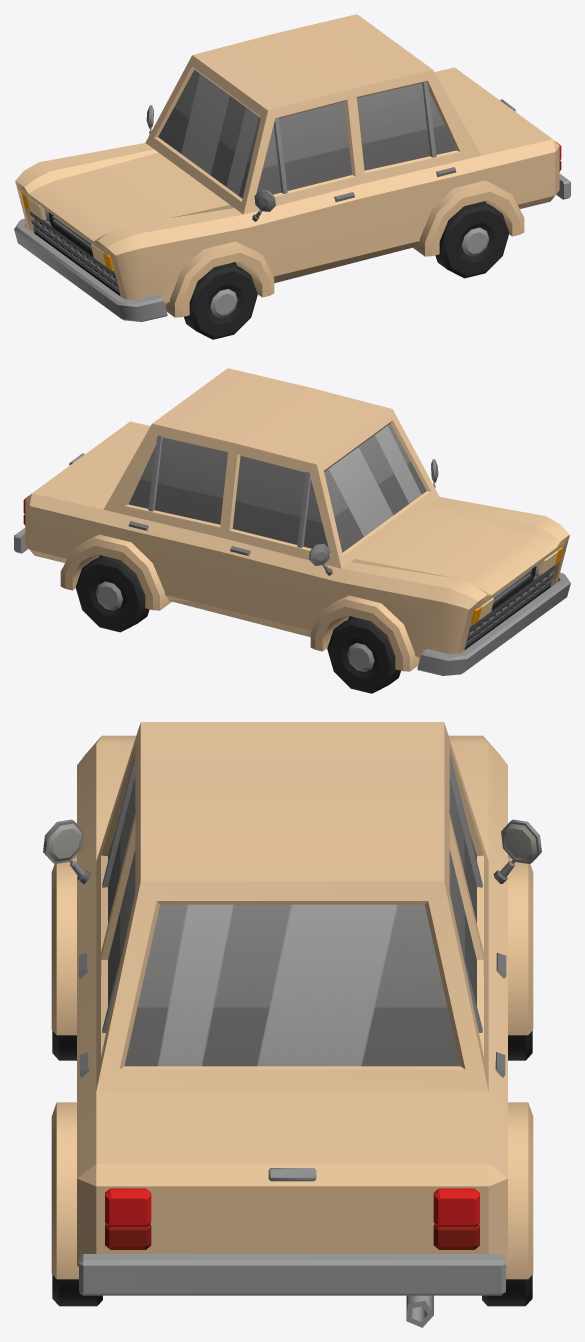
File: Car_5_B.gltf
3 renders of one model, top to bottom at view 1: azimuth 30°, elevation 25°; view 2: azimuth 150°, elevation 25°; view 3: azimuth 270°, elevation 25°, orthographic. The views are drawn at different scales.
Visible parts, largest first — view 1: Car_5_B, RR, FL; view 2: Car_5_B, RL, FR; view 3: Car_5_B, RR, RL.
Part boxes in pixels (x1,y1,x2,y2): Car_5_B: (14,14,570,321); RR: (435,201,509,278); FL: (184,263,257,339); Car_5_B: (14,368,570,675); RL: (75,555,149,632); FR: (327,617,400,693); Car_5_B: (43,722,541,1327); RR: (52,1275,102,1306); RL: (482,1275,532,1306).
Bounding box in the file's own units: 3.55 × 1.45 × 1.67.
4 materials, 4 textured.
